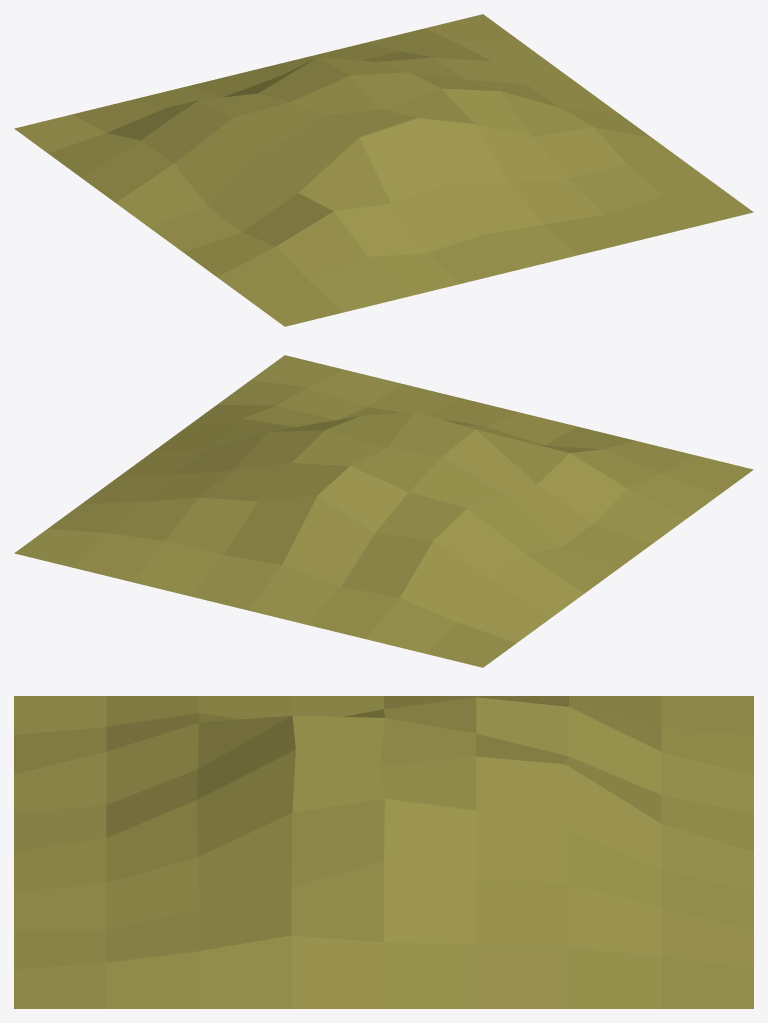
The model's file is Terrain_13_Yellow.fbx.
3 renders of one model, top to bottom at view 1: azimuth 30°, elevation 25°; view 2: azimuth 150°, elevation 25°; view 3: azimuth 270°, elevation 25°, orthographic. The views are drawn at different scales.
Visible parts, largest first — view 1: Terrain_13_Yellow; view 2: Terrain_13_Yellow; view 3: Terrain_13_Yellow.
Part boxes in pixels (x1=…): Terrain_13_Yellow: x1=14, y1=14, x2=753, y2=326; Terrain_13_Yellow: x1=14, y1=355, x2=753, y2=667; Terrain_13_Yellow: x1=14, y1=696, x2=753, y2=1008.
Bounding box in the file's own units: 6000 × 926 × 6000.
